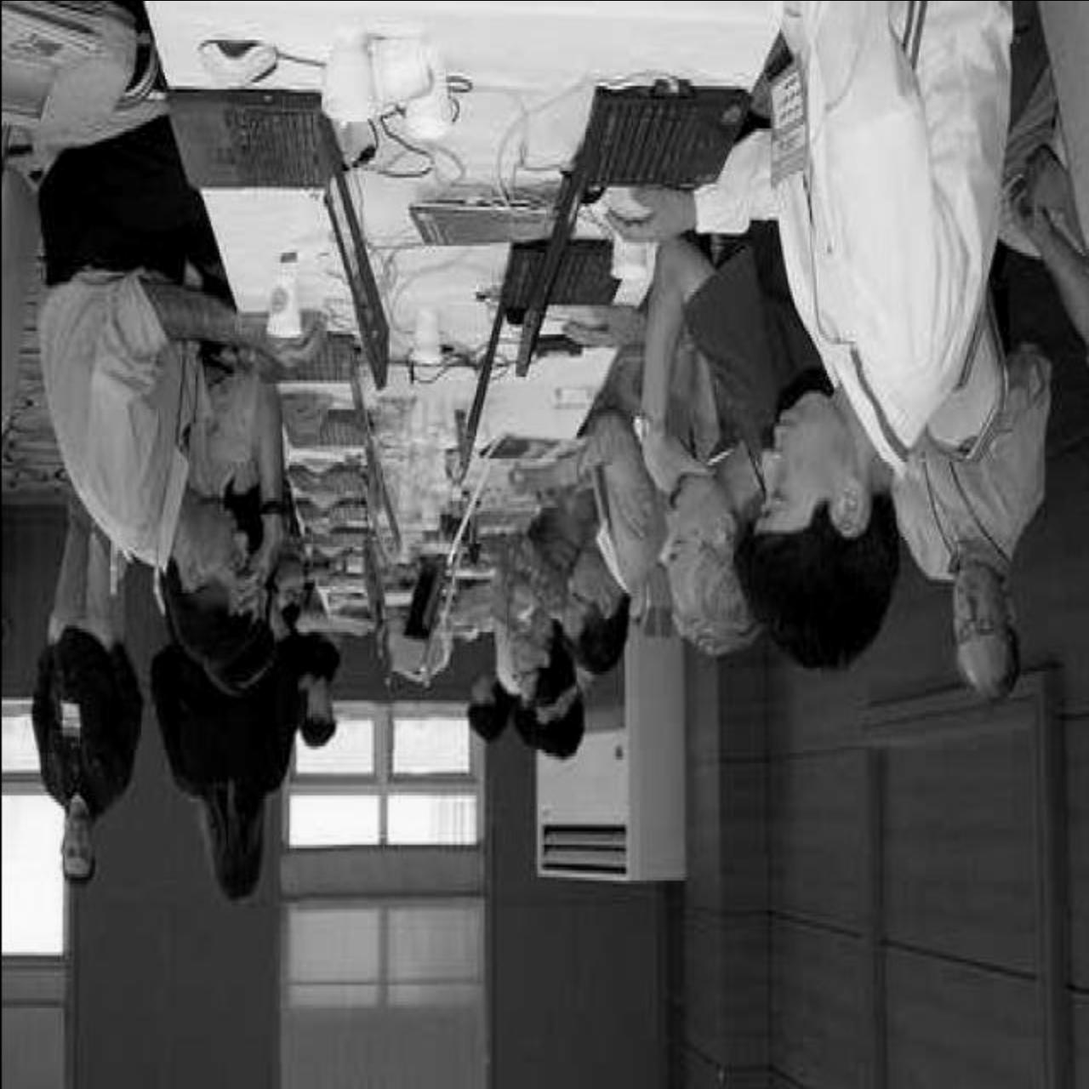laptop: (447, 41, 758, 470), (173, 72, 440, 356), (272, 364, 429, 670), (448, 431, 560, 552)
